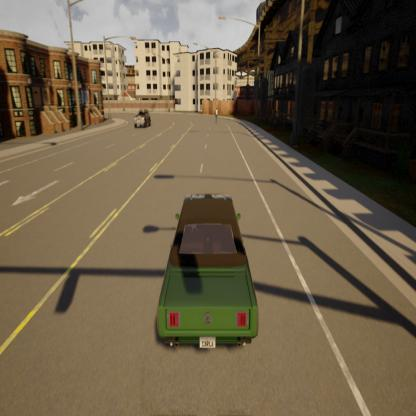Cars: (145, 174, 266, 370), (132, 106, 153, 130)
